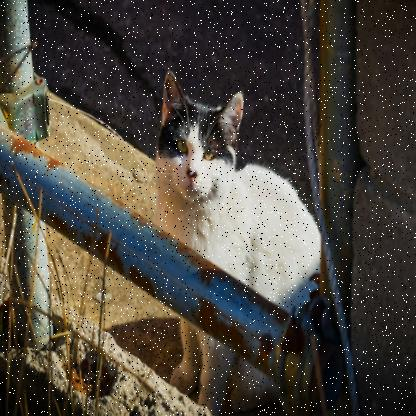cat: (152, 64, 328, 412)
